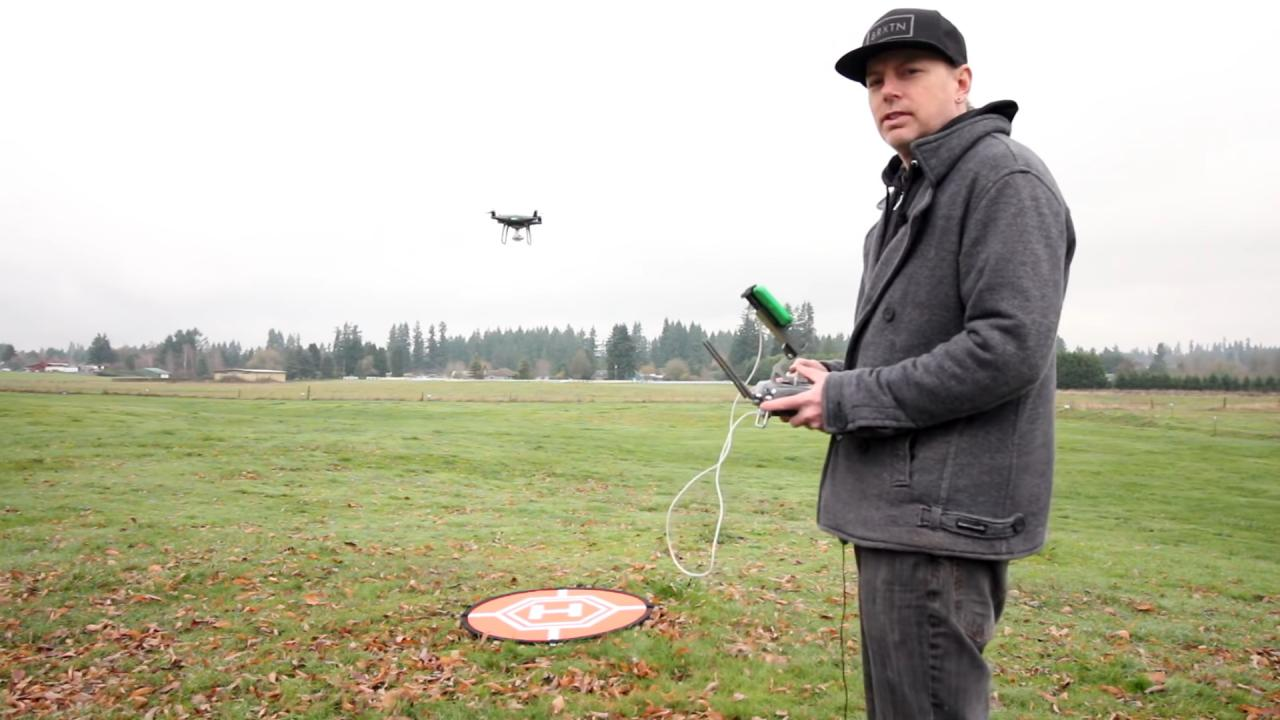Drone: (481, 197, 557, 256)
